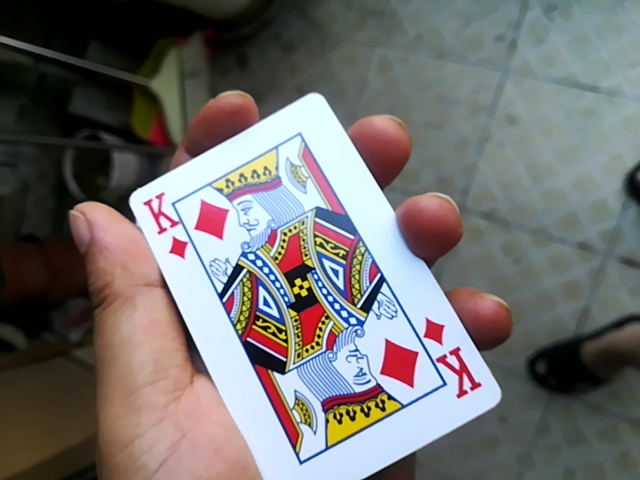fk k: (114, 77, 486, 480)
